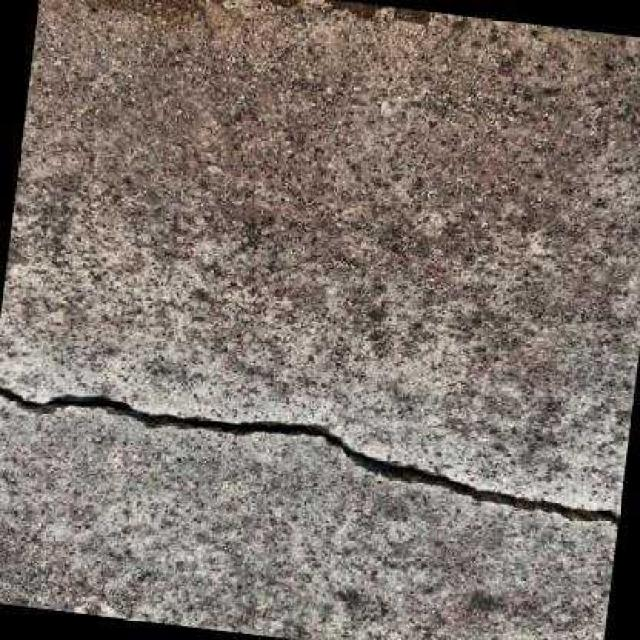D00: (0, 384, 619, 529)
